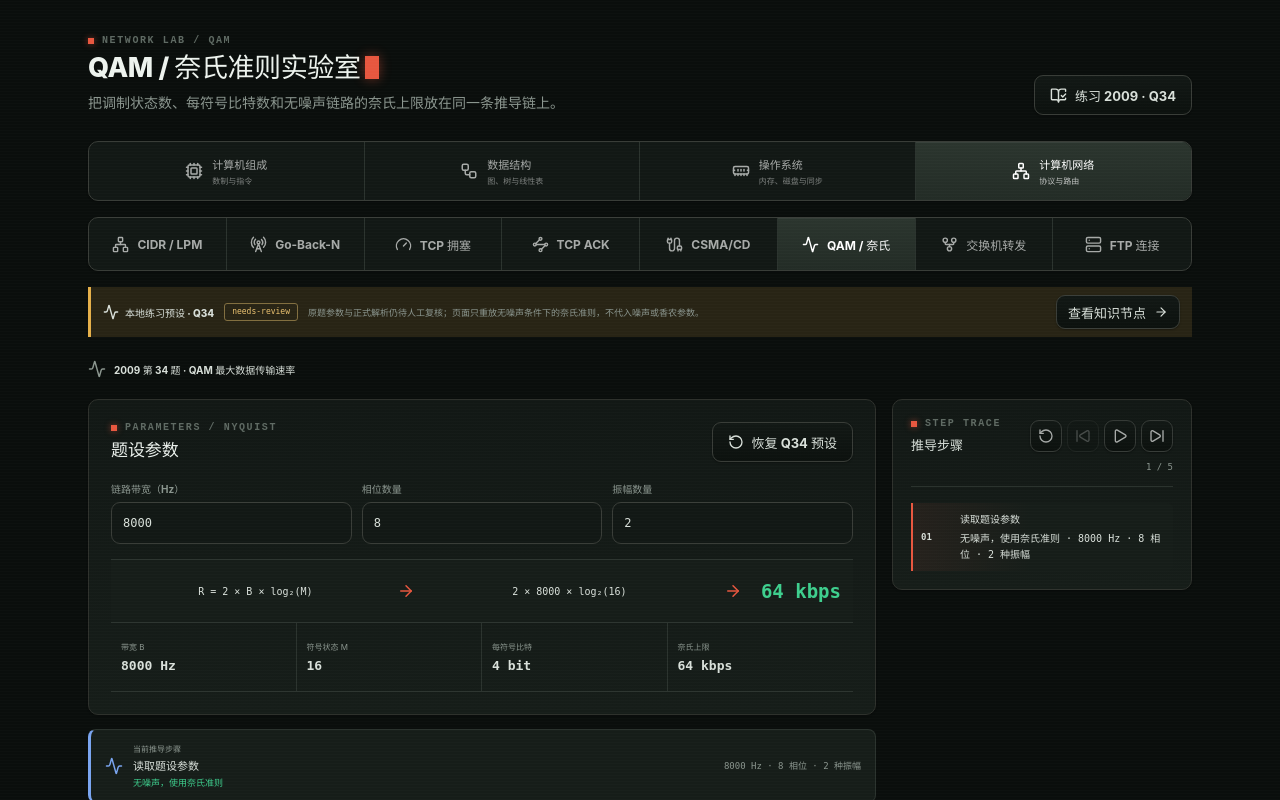
QamNyquistLabPage › keeps the derivation and URL synchronized, rejects invalid input, and restores the preset
Expected: the field labelled "链路带宽" holds "8000", [111,502,352,544]
Expected: the number field labelled "振幅数量" holds "2", [612,502,853,544]
Step 1. Replace the text in the number field labelled "相位数量" with "1" → (482, 524), box [362,502,602,544]
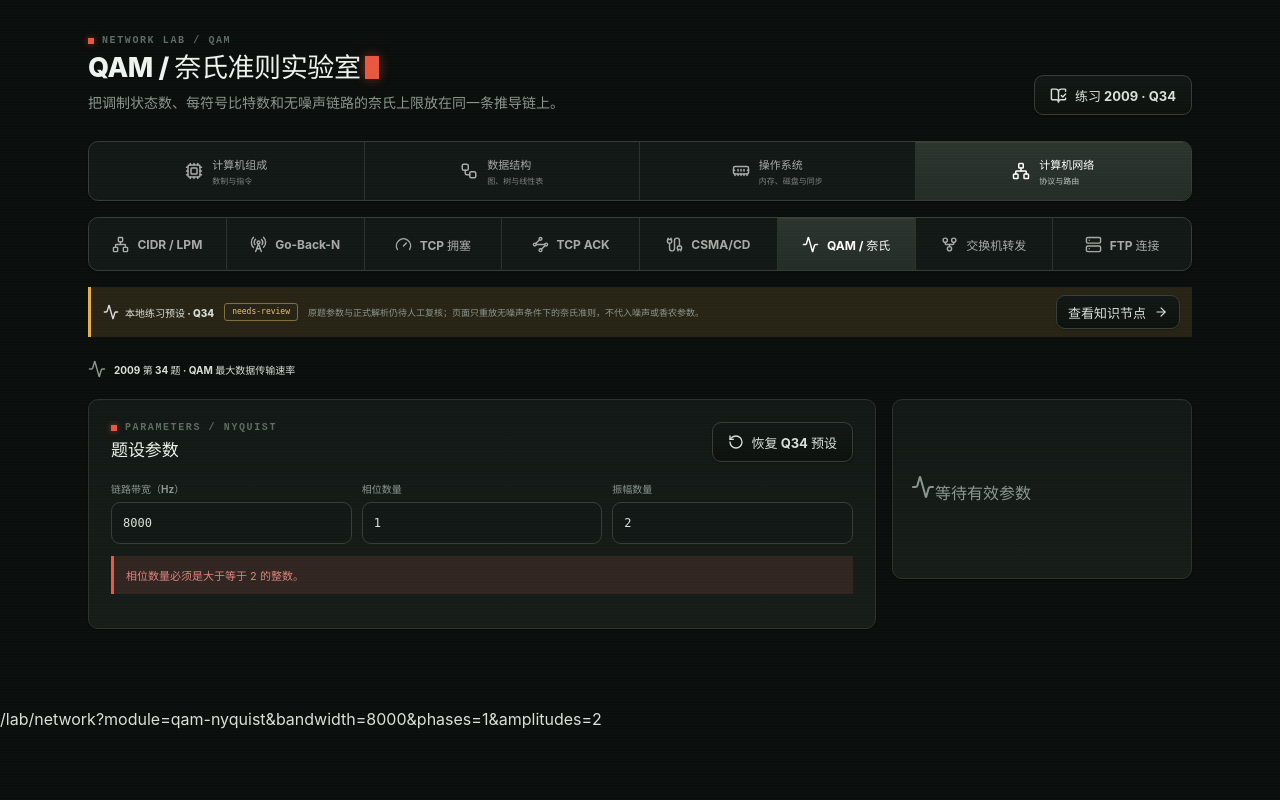
Expected: the message shows "相位数量", [126,570,304,584]
Expected: the field labelled "转换步骤" is gone
Step 2. Click the button "恢复 Q34 预设" → (782, 442), box [712,422,853,462]
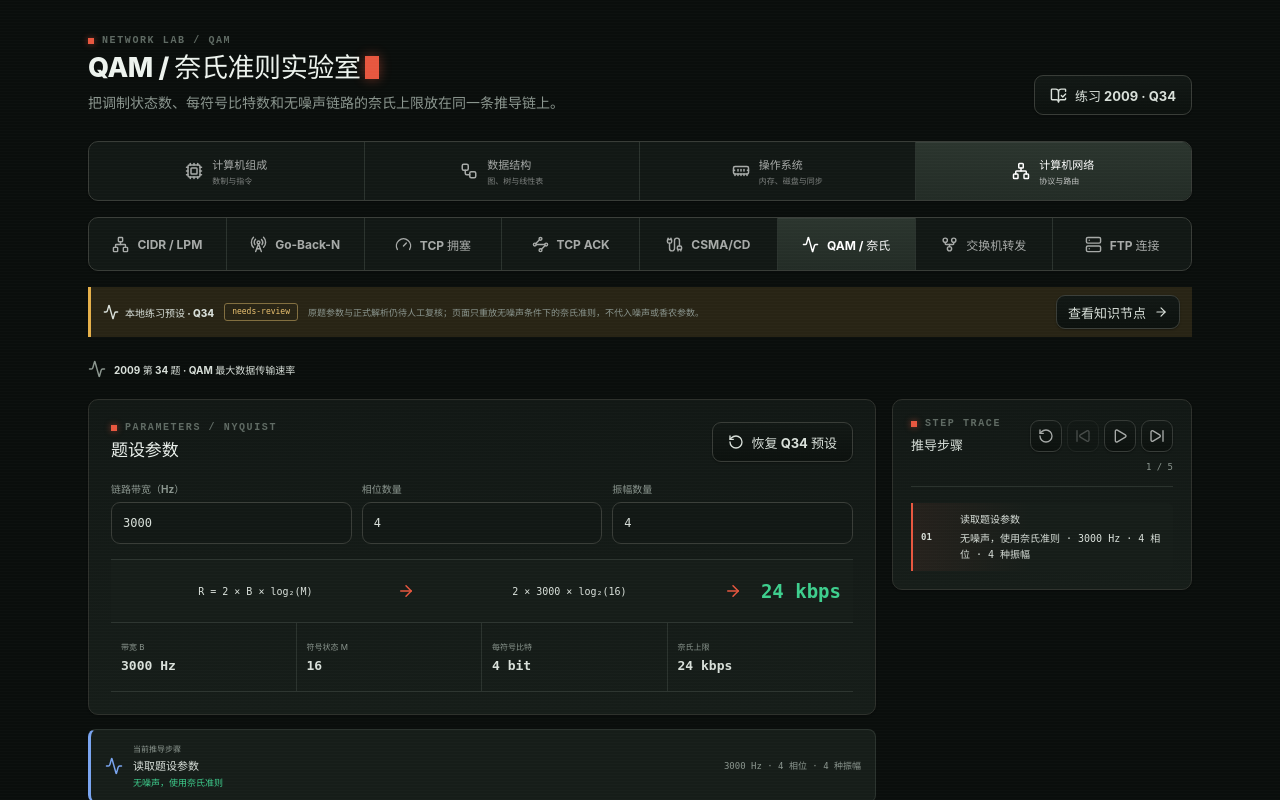
Expected: the element named "QAM 最大速率公式" shows "24 kbps", [761,580,841,602]
